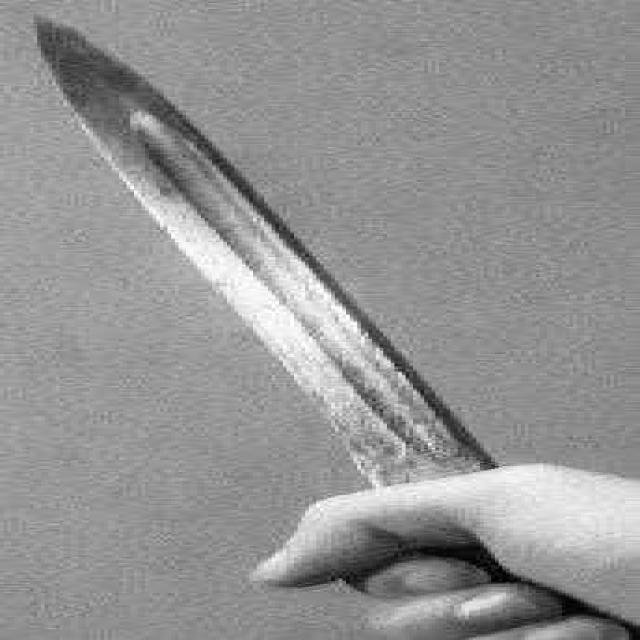Knife: (26, 13, 640, 640)
